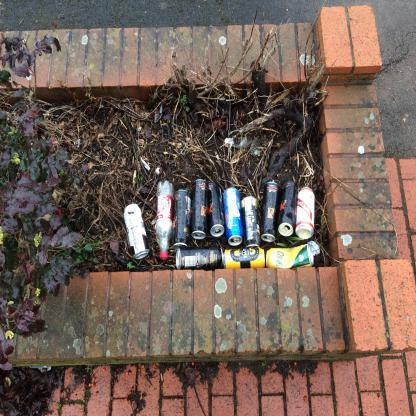metal: (124, 205, 151, 261), (262, 183, 282, 243), (224, 189, 244, 247), (267, 245, 315, 269), (279, 181, 299, 238), (192, 180, 210, 240), (174, 191, 192, 251), (297, 188, 317, 241), (177, 249, 225, 271), (242, 197, 262, 249), (224, 248, 266, 270), (210, 183, 226, 238)
plastik: (157, 181, 176, 261)
